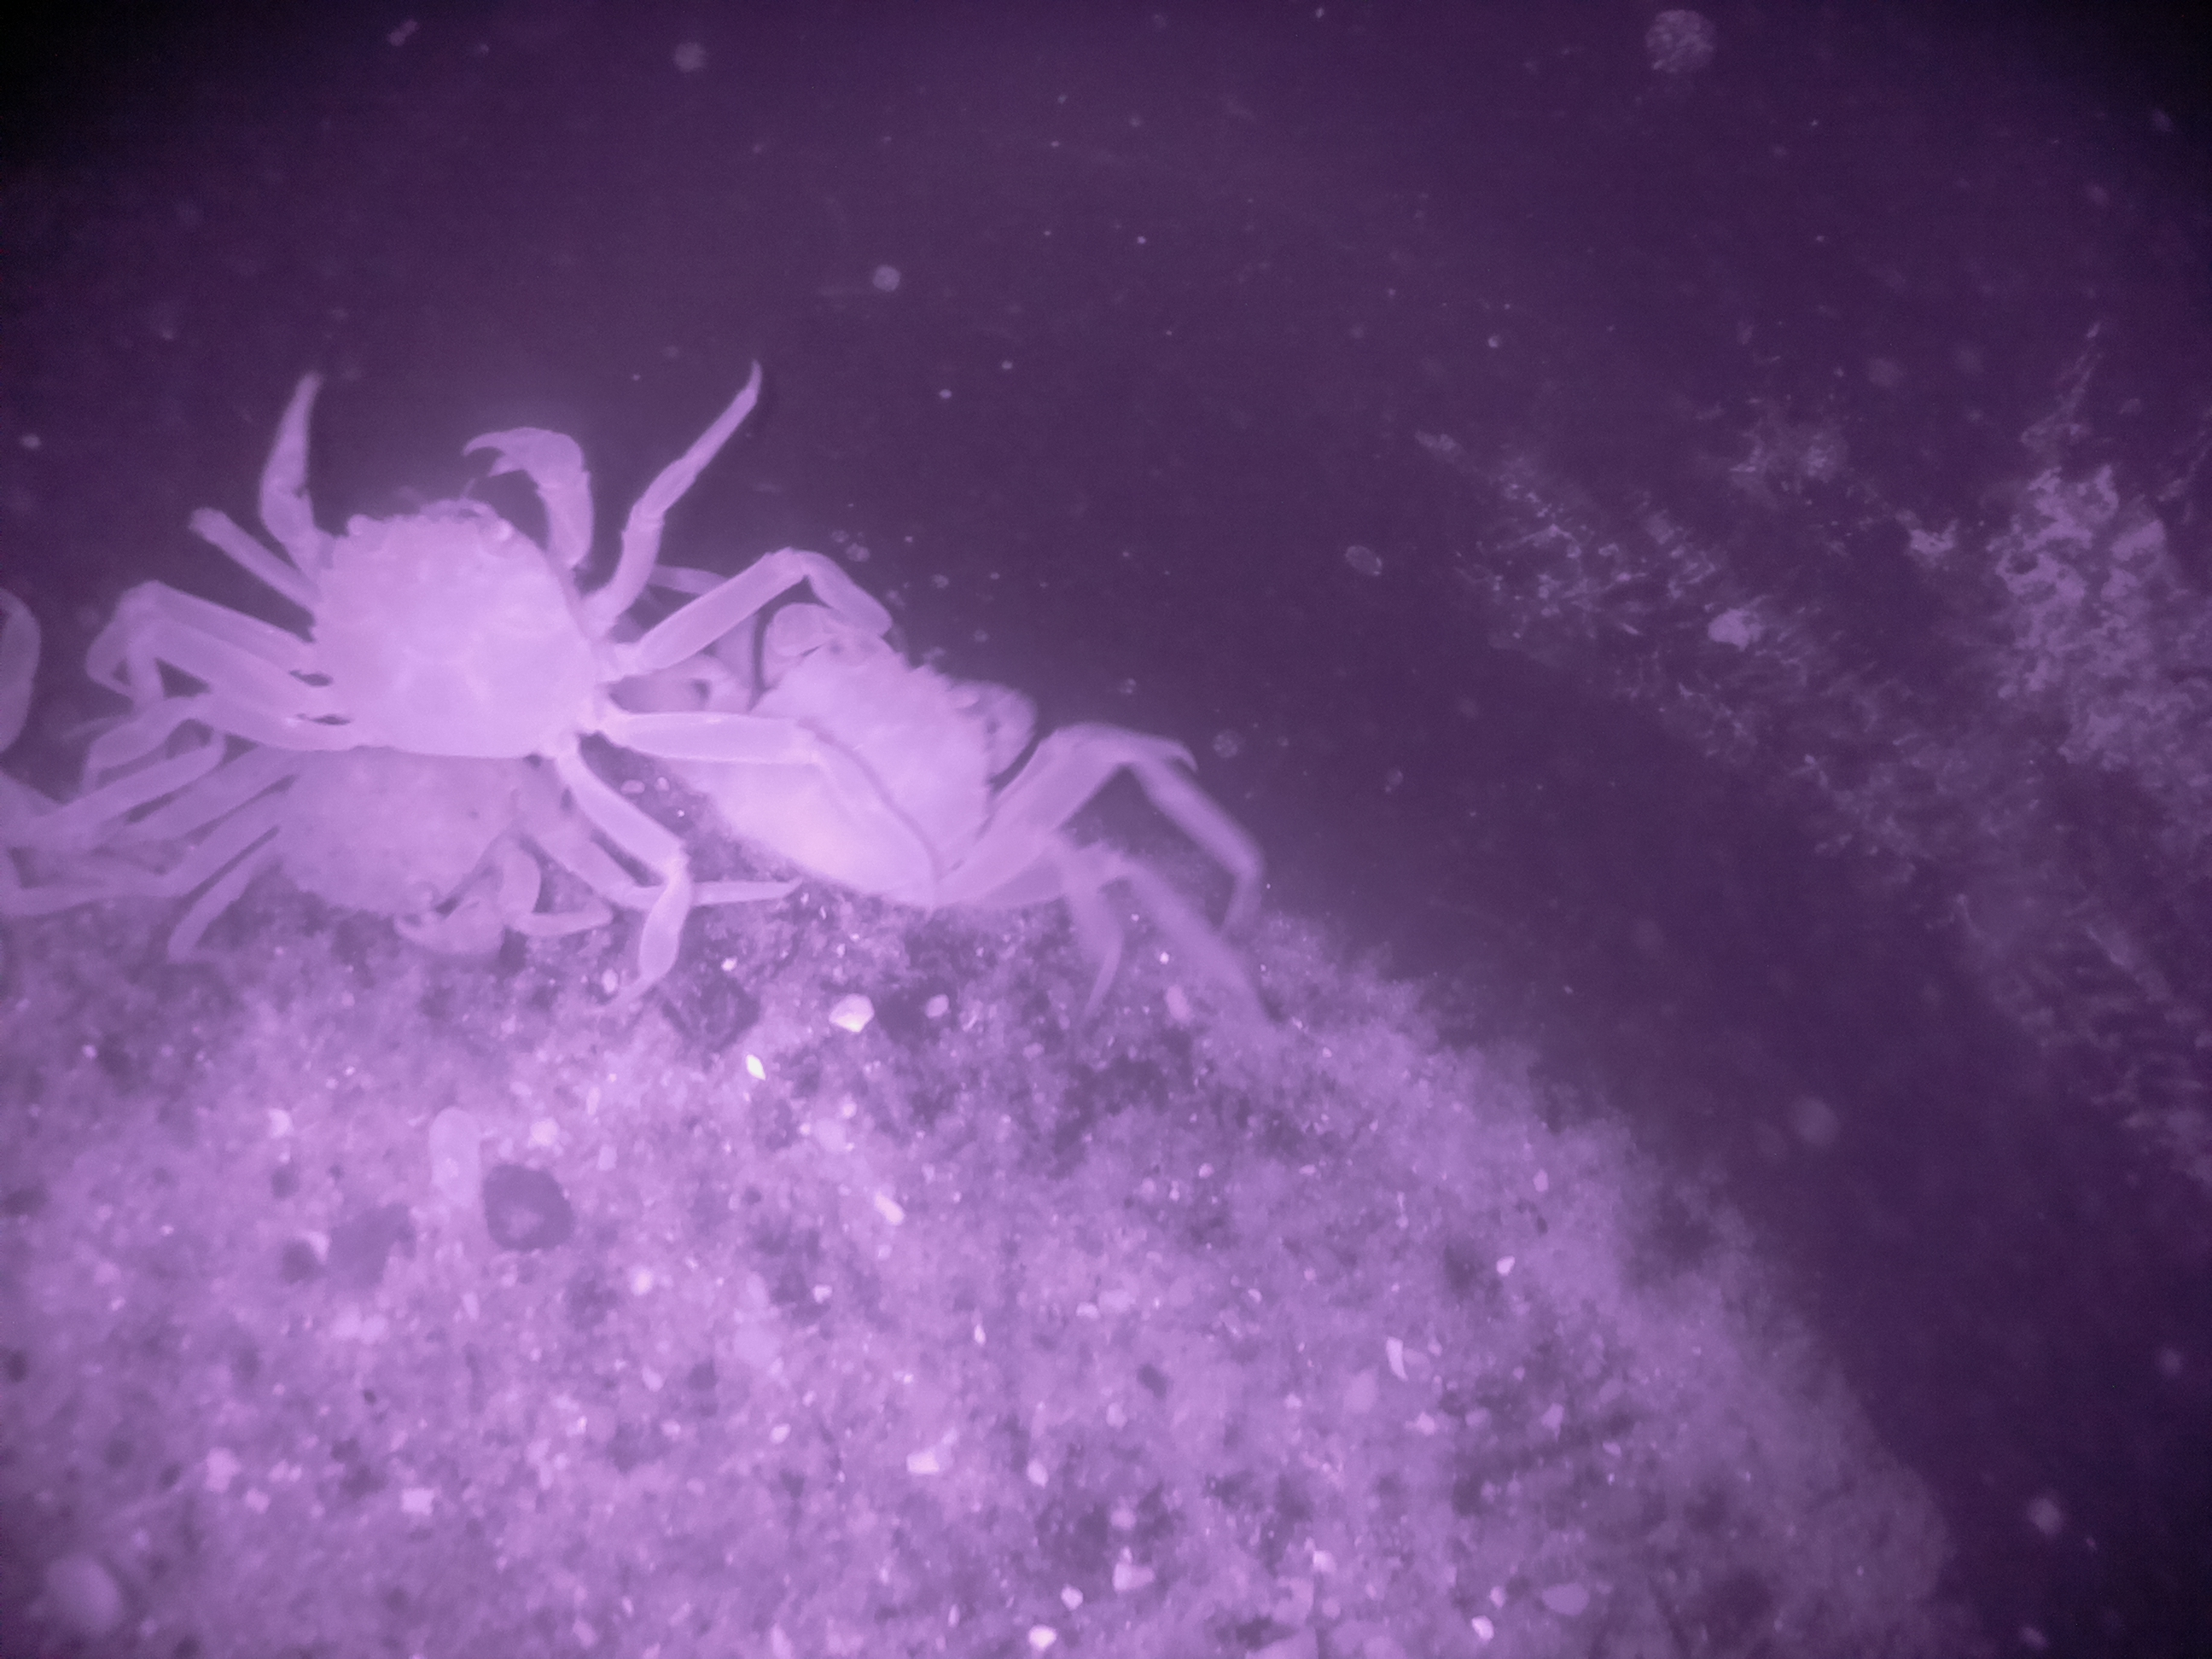Crab: (141, 345, 719, 831)
